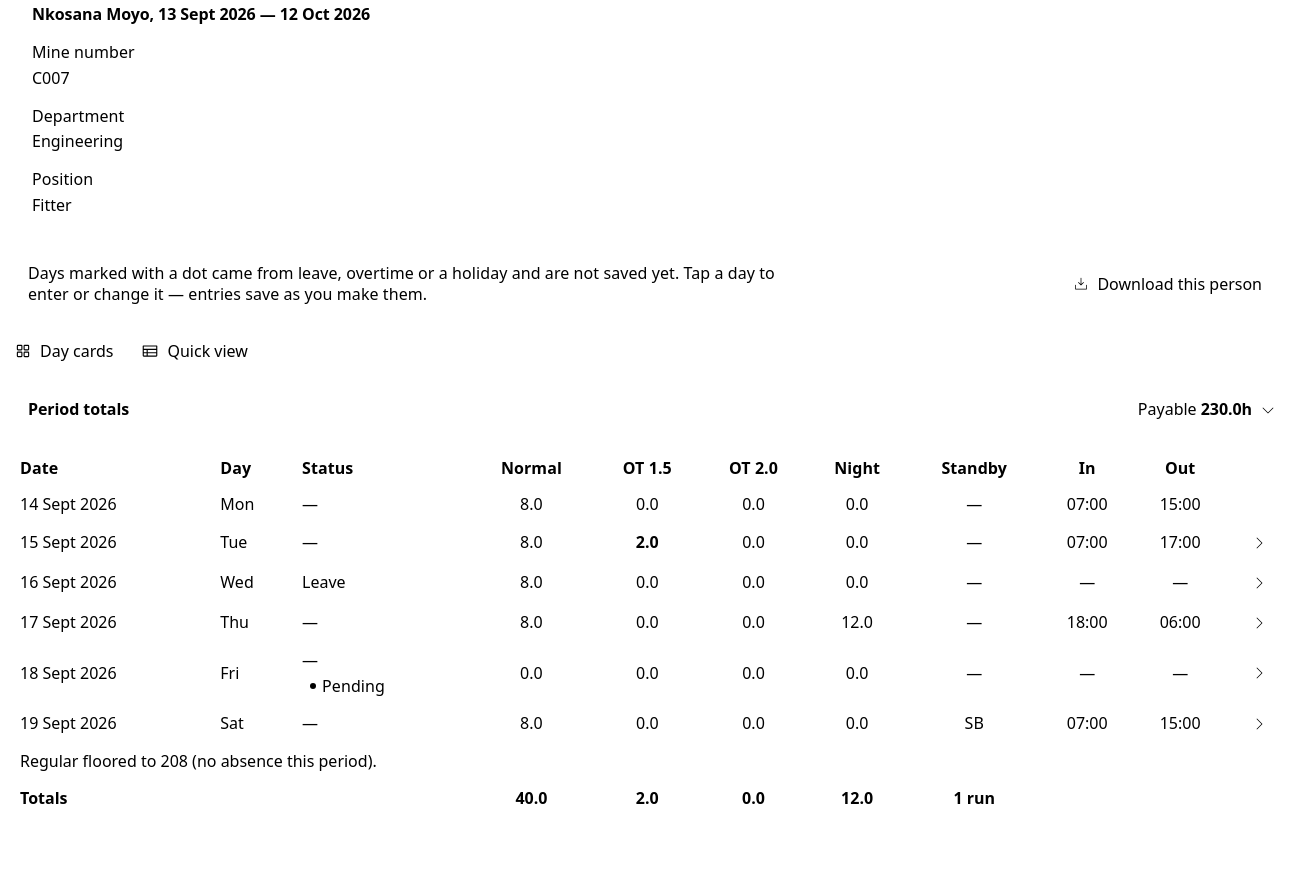
Test: NecPersonView › flags pending overtime without counting it
The width and height of the screenshot is (1292, 883).
expect the text "Pending" is shown: met, box [322, 676, 385, 696]
… its breakdown names the record as awaiting approval …
What coordinates should you click on to do the following:
click the button named "Show the breakdown for 18 Sept 2026"
I would click on:
 (1259, 673)
Its box is [1243, 657, 1275, 689].
(page scrolled)
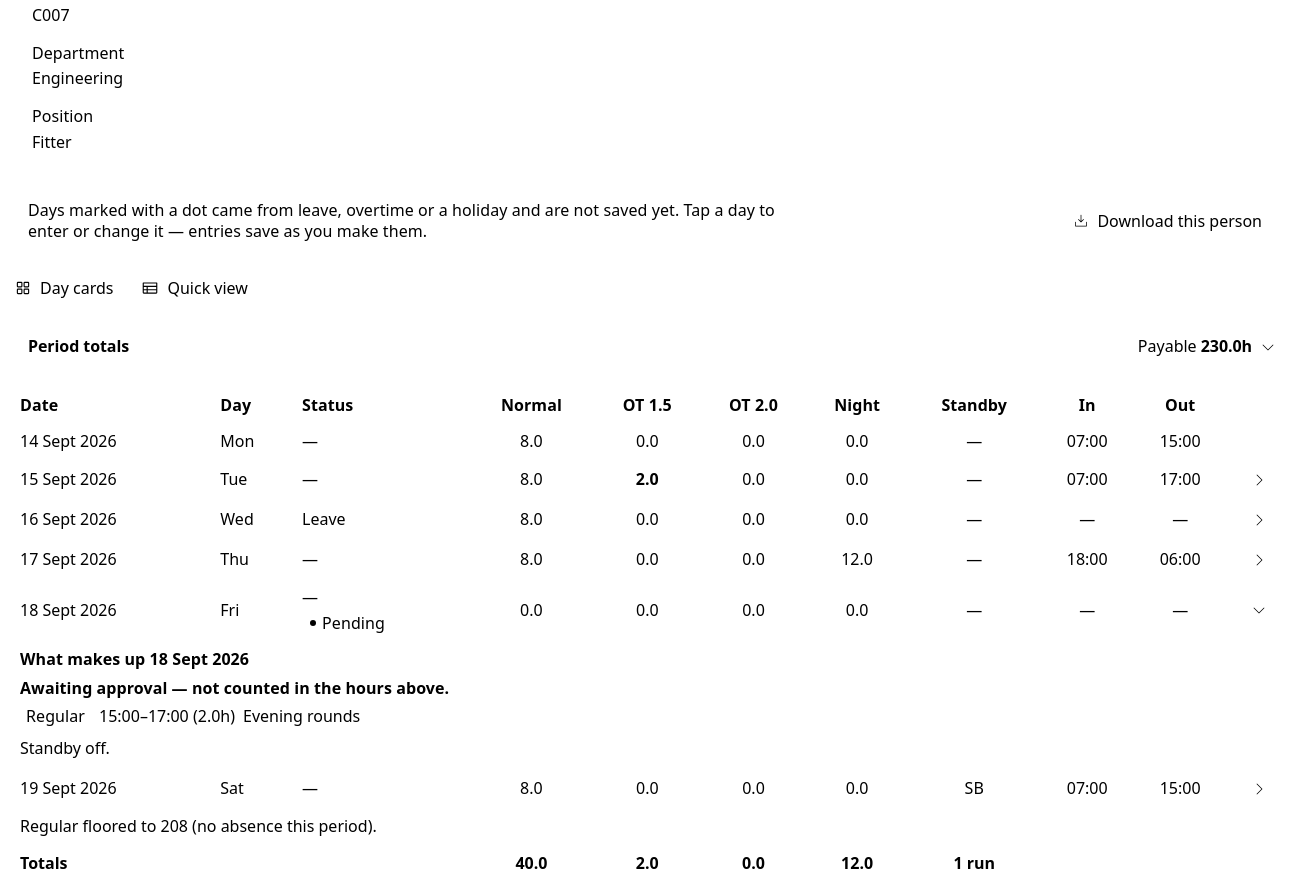
expect the text "Awaiting approval — not counted in the hours above." is shown: met, box [20, 677, 449, 699]
expect the text "Evening rounds" is shown: met, box [243, 705, 360, 727]
expect the text "0.0" is shown 4 times: met, box [520, 598, 543, 620]; [636, 598, 659, 620]; [742, 598, 765, 620]; [846, 598, 868, 620]
